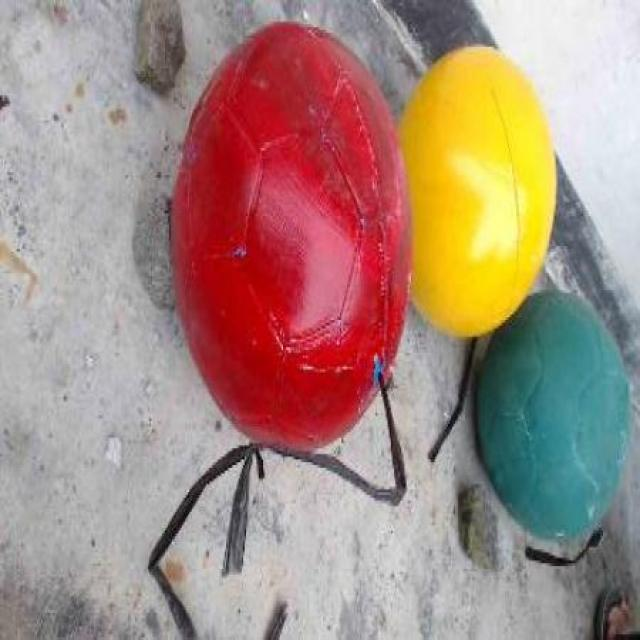buoy: (170, 19, 412, 452), (399, 42, 555, 335), (476, 289, 632, 543)
